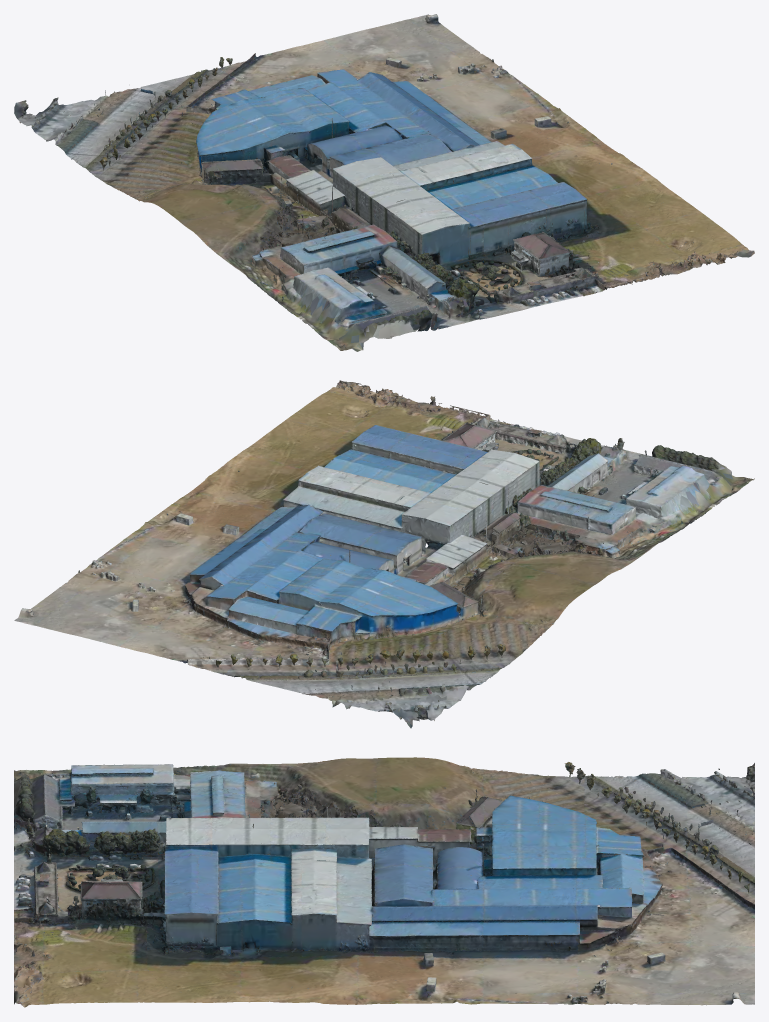
File: factory_metal_processing_factory_plant.glb
3 renders of one model, top to bottom at view 1: azimuth 30°, elevation 25°; view 2: azimuth 150°, elevation 25°; view 3: azimuth 270°, elevation 25°, orthographic. The views are drawn at different scales.
Parts seen in each view (by area): view 1: Object_2; view 2: Object_2; view 3: Object_2.
Part boxes in pixels (<box>): Object_2: <box>14,14,754,351</box>; Object_2: <box>14,380,754,728</box>; Object_2: <box>14,757,754,1007</box>.
Bounding box in the file's own units: 190 × 21.04 × 259.
Materials: 1 (1 with a texture image).
